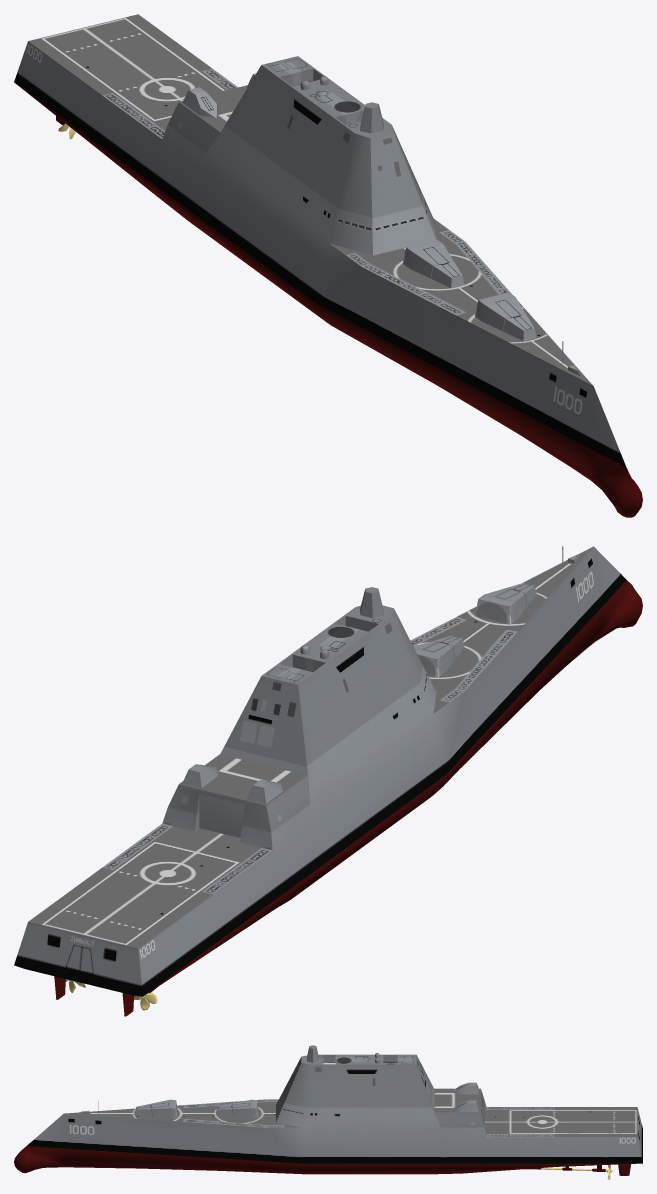
The picture shows the model from 3 angles, top to bottom: view 1: azimuth 30°, elevation 25°; view 2: azimuth 150°, elevation 25°; view 3: azimuth 270°, elevation 25°; orthographic projection. The views are drawn at different scales.
Visible parts, largest first — view 1: Hull; view 2: Hull; view 3: Hull.
Boxes of the visible parts, bbox=[...] form: Hull: bbox=[14, 14, 642, 517]; Hull: bbox=[14, 546, 642, 1016]; Hull: bbox=[14, 1045, 642, 1179].
Bounding box in the file's own units: 3.52 × 5.84 × 26.48.
1 material, 1 textured.
